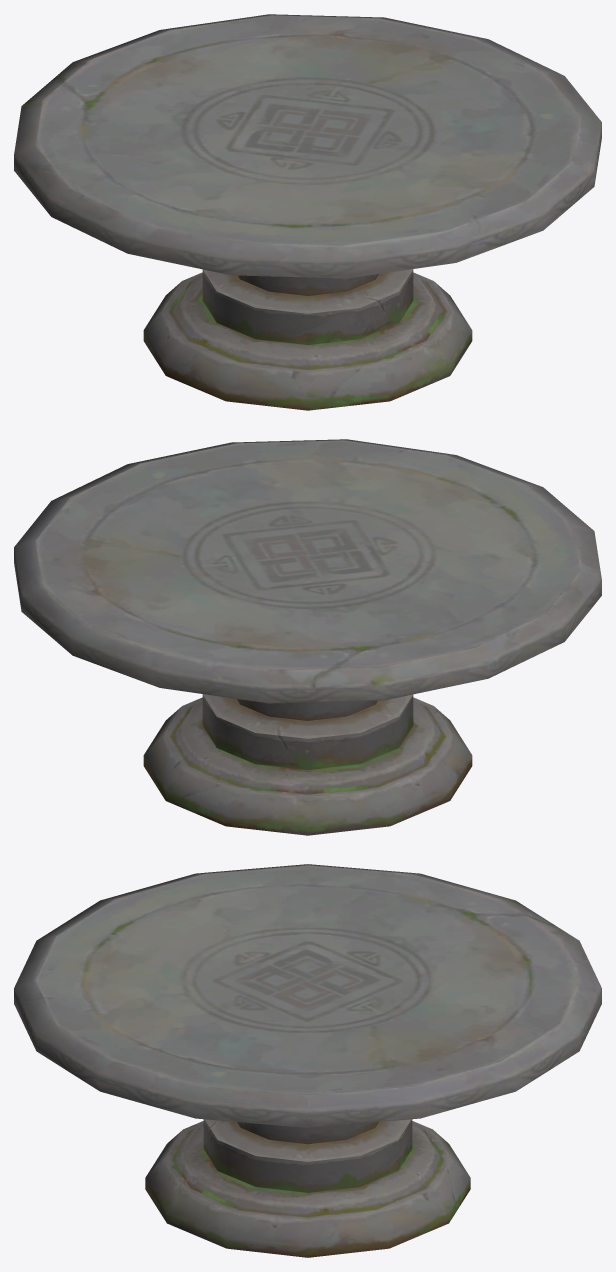
File: Homeworld_Exterior_Cyg_Table_Prop_Shizhi_01_Vo.fbx
The picture shows the model from 3 angles, top to bottom: view 1: azimuth 30°, elevation 25°; view 2: azimuth 150°, elevation 25°; view 3: azimuth 270°, elevation 25°; orthographic projection.
Visible parts, largest first — view 1: Area_Cyg_Prop_Common_Table_01_Vo; view 2: Area_Cyg_Prop_Common_Table_01_Vo; view 3: Area_Cyg_Prop_Common_Table_01_Vo.
Part boxes in pixels (<box>): Area_Cyg_Prop_Common_Table_01_Vo: <box>14,14,601,410</box>; Area_Cyg_Prop_Common_Table_01_Vo: <box>14,439,601,835</box>; Area_Cyg_Prop_Common_Table_01_Vo: <box>14,864,601,1257</box>.
Size of the model in its own units: 1.96 by 0.7698 by 1.97.
